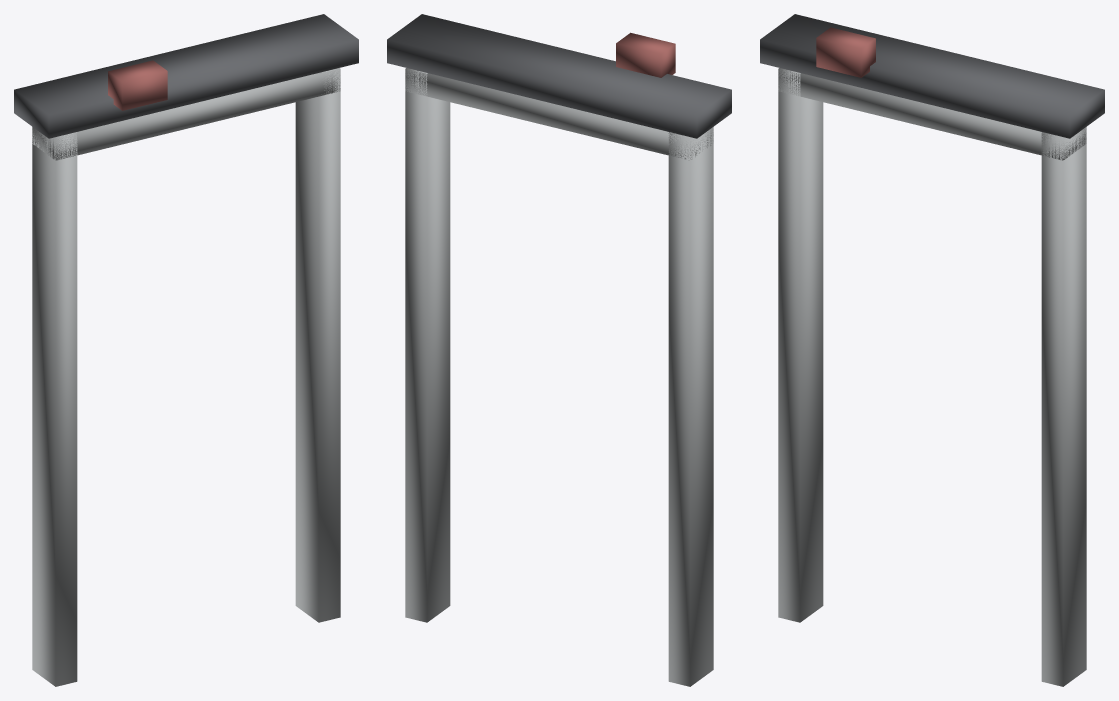
File: doorway_fire_rated_w96_h200_d16.glb
3 renders of one model, left to right at view 1: azimuth 30°, elevation 25°; view 2: azimuth 150°, elevation 25°; view 3: azimuth 330°, elevation 25°, orthographic.
Parts seen in each view (by area): view 1: world; view 2: world; view 3: world.
Part boxes in pixels (x1,y1,x2,y2): world: (14, 14, 358, 686); world: (387, 14, 731, 686); world: (760, 14, 1104, 686).
Size of the model in its own units: 1.23 by 2.29 by 0.3.
